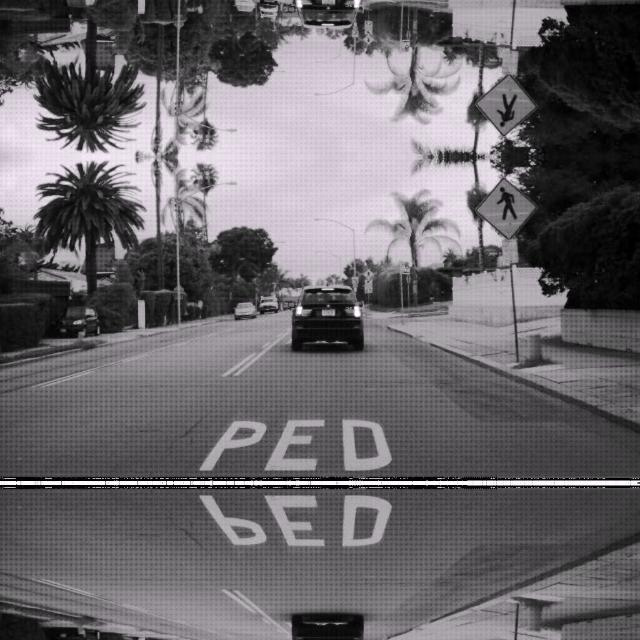pedestrianCrossing: (475, 74, 537, 138), (475, 175, 537, 238)
